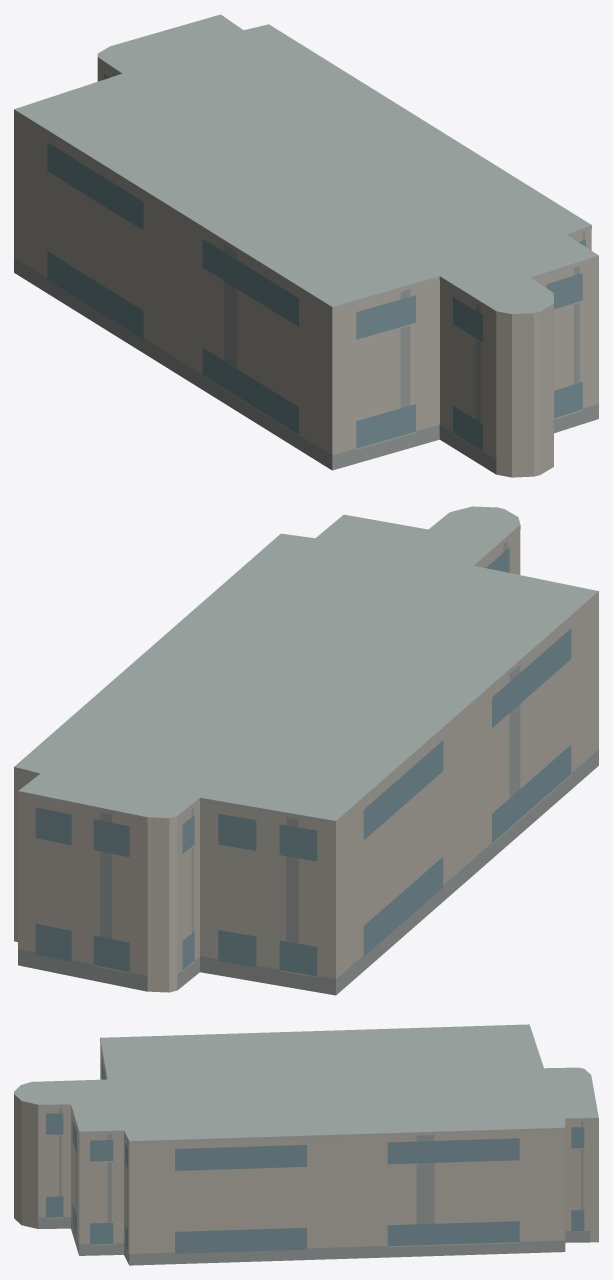
Rendered from survey-upis-32634315.glb.
3 views of the same model, one above another, from view 1: azimuth 30°, elevation 25°; view 2: azimuth 150°, elevation 25°; view 3: azimuth 270°, elevation 25° (orthographic). The views are drawn at different scales.
Visible parts, largest first — view 1: survey-upis-32634315.tmp; view 2: survey-upis-32634315.tmp; view 3: survey-upis-32634315.tmp.
Part boxes in pixels (left/top/right/bottom): survey-upis-32634315.tmp: left=14, top=14, right=598, bottom=477; survey-upis-32634315.tmp: left=14, top=506, right=598, bottom=995; survey-upis-32634315.tmp: left=14, top=1024, right=598, bottom=1265.
Bounding box in the file's own units: 18.45 × 9.15 × 39.02.
